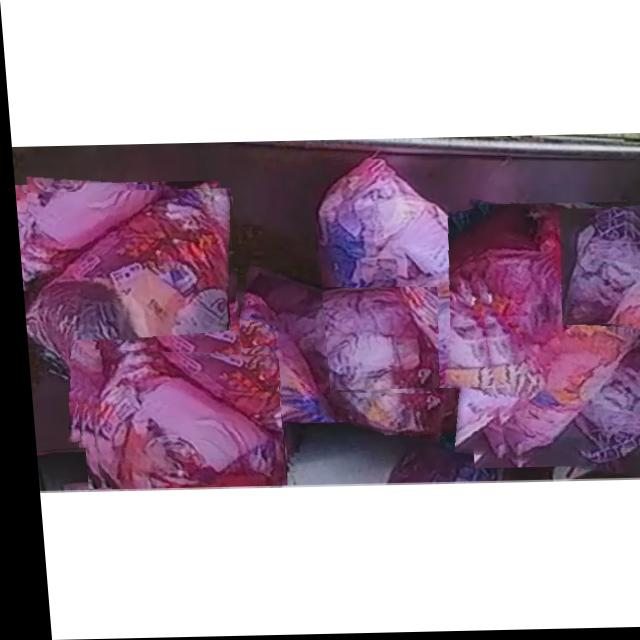other_trashbag: (20, 190, 227, 445), (314, 160, 509, 390), (469, 207, 640, 459), (242, 269, 444, 436), (87, 352, 278, 488), (557, 222, 640, 328)
